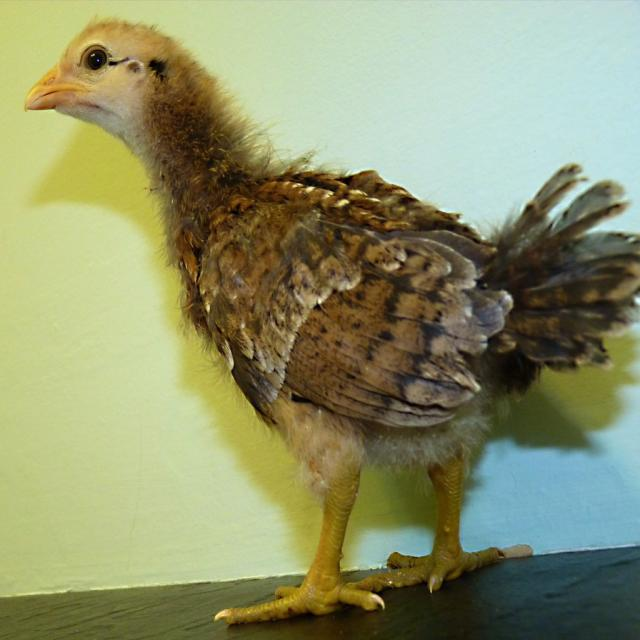Chicken: (22, 1, 640, 634)
